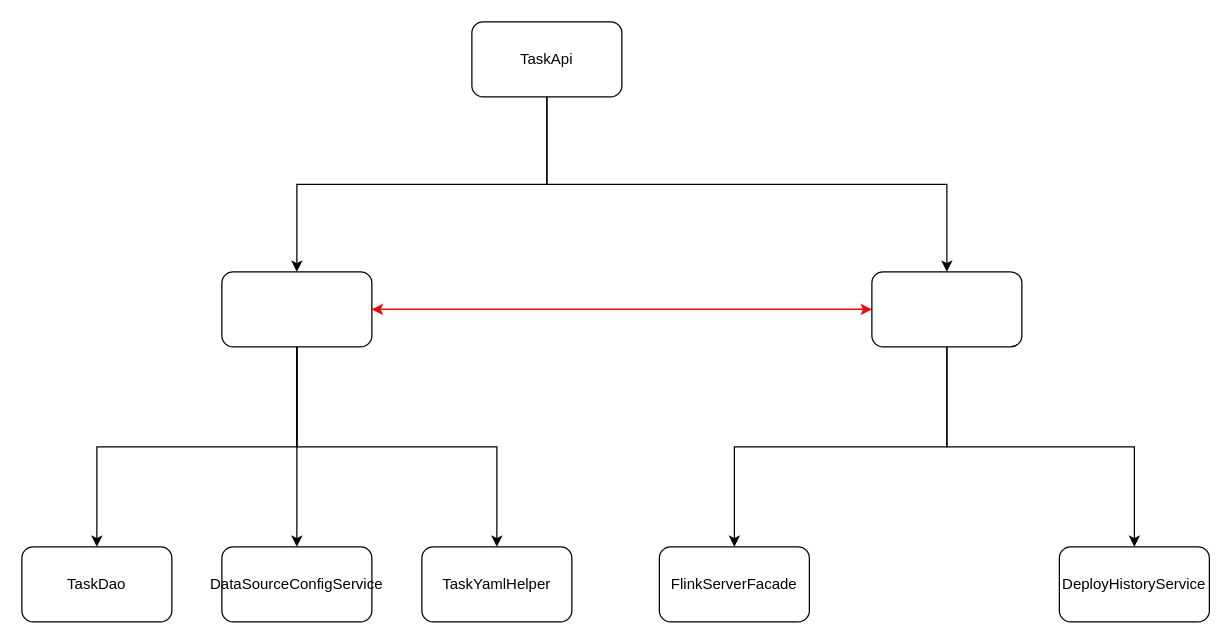
Image size: 1231x644. Some labels were removed from this diagram. The shapes that lost their labels are listed below. From the top down, each one's centre as x and y in pixels, then its label:
the point at 296,309: TaskService
the point at 946,309: TaskOperationService
